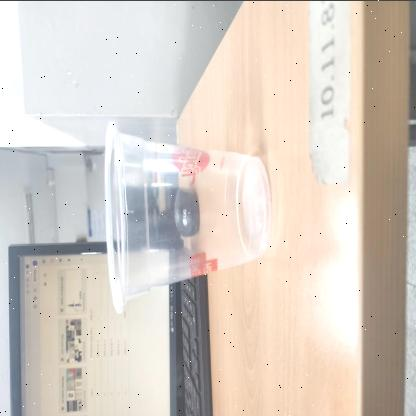Others: (104, 119, 272, 312)
